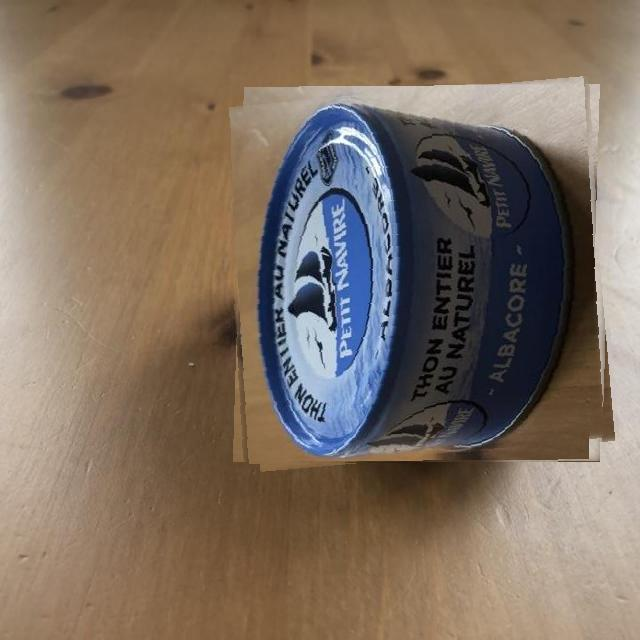recyclable: (231, 84, 613, 464)
